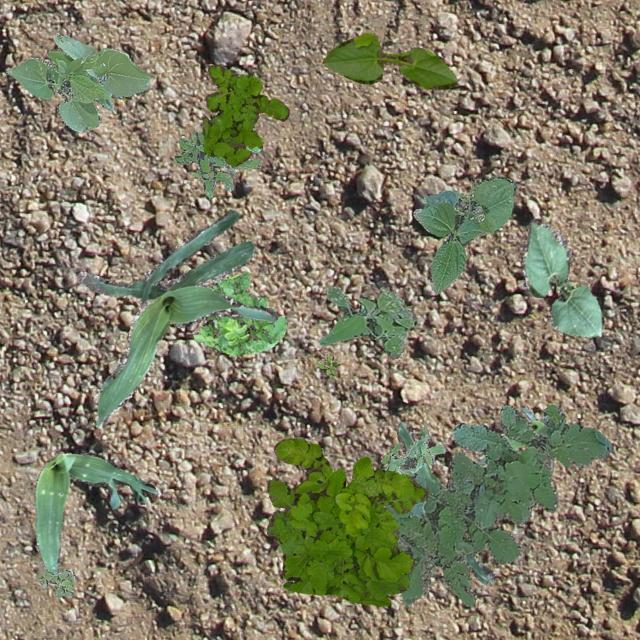crop: (75, 208, 278, 426), (396, 422, 494, 582), (34, 452, 154, 572), (5, 32, 150, 130), (412, 174, 516, 294), (522, 218, 604, 336), (322, 32, 456, 88), (476, 404, 552, 472)
weed: (382, 404, 610, 606), (266, 437, 427, 606), (202, 64, 288, 164), (192, 270, 286, 354), (318, 284, 416, 358), (172, 130, 262, 198), (380, 426, 446, 476), (36, 568, 74, 596), (316, 352, 338, 374)
